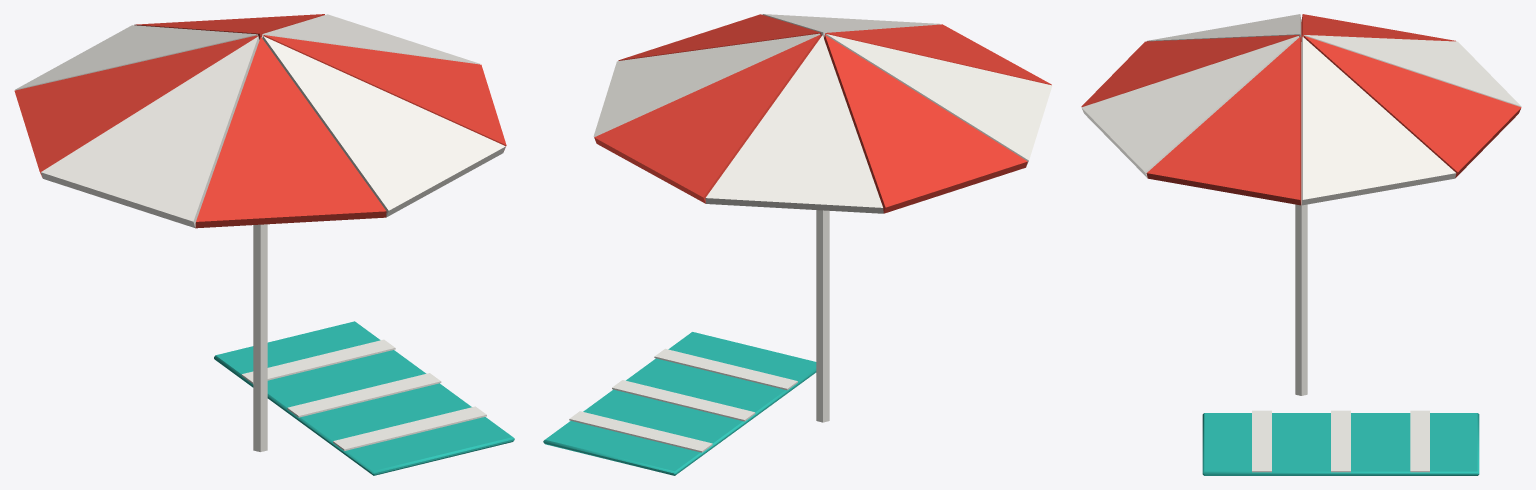
Rendered from umbrella.fbx.
The picture shows the model from 3 angles, left to right: view 1: azimuth 30°, elevation 25°; view 2: azimuth 150°, elevation 25°; view 3: azimuth 270°, elevation 25°; orthographic projection. The views are drawn at different scales.
Parts seen in each view (by area): view 1: umbrella; view 2: umbrella; view 3: umbrella.
Boxes of the visible parts, left/top/right/bottom form: umbrella: left=14, top=14, right=514, bottom=475; umbrella: left=543, top=14, right=1052, bottom=475; umbrella: left=1081, top=14, right=1521, bottom=475.
Bounding box in the file's own units: 1.11 × 0.9986 × 1.11.
